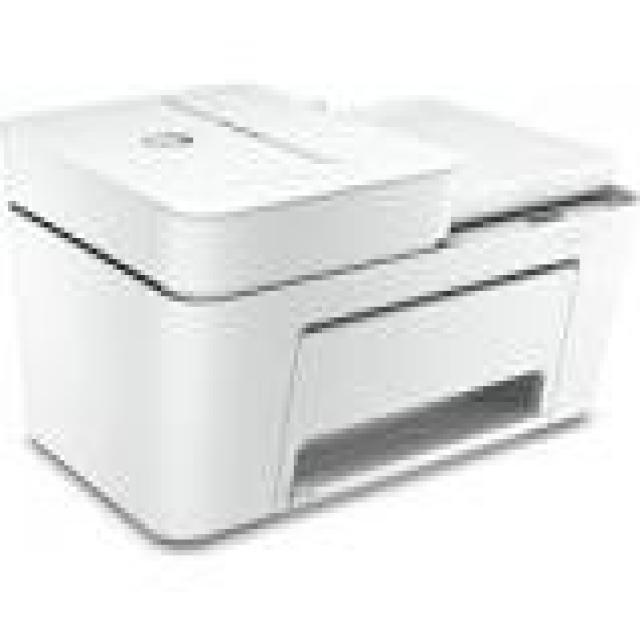printer: (0, 61, 640, 559)
